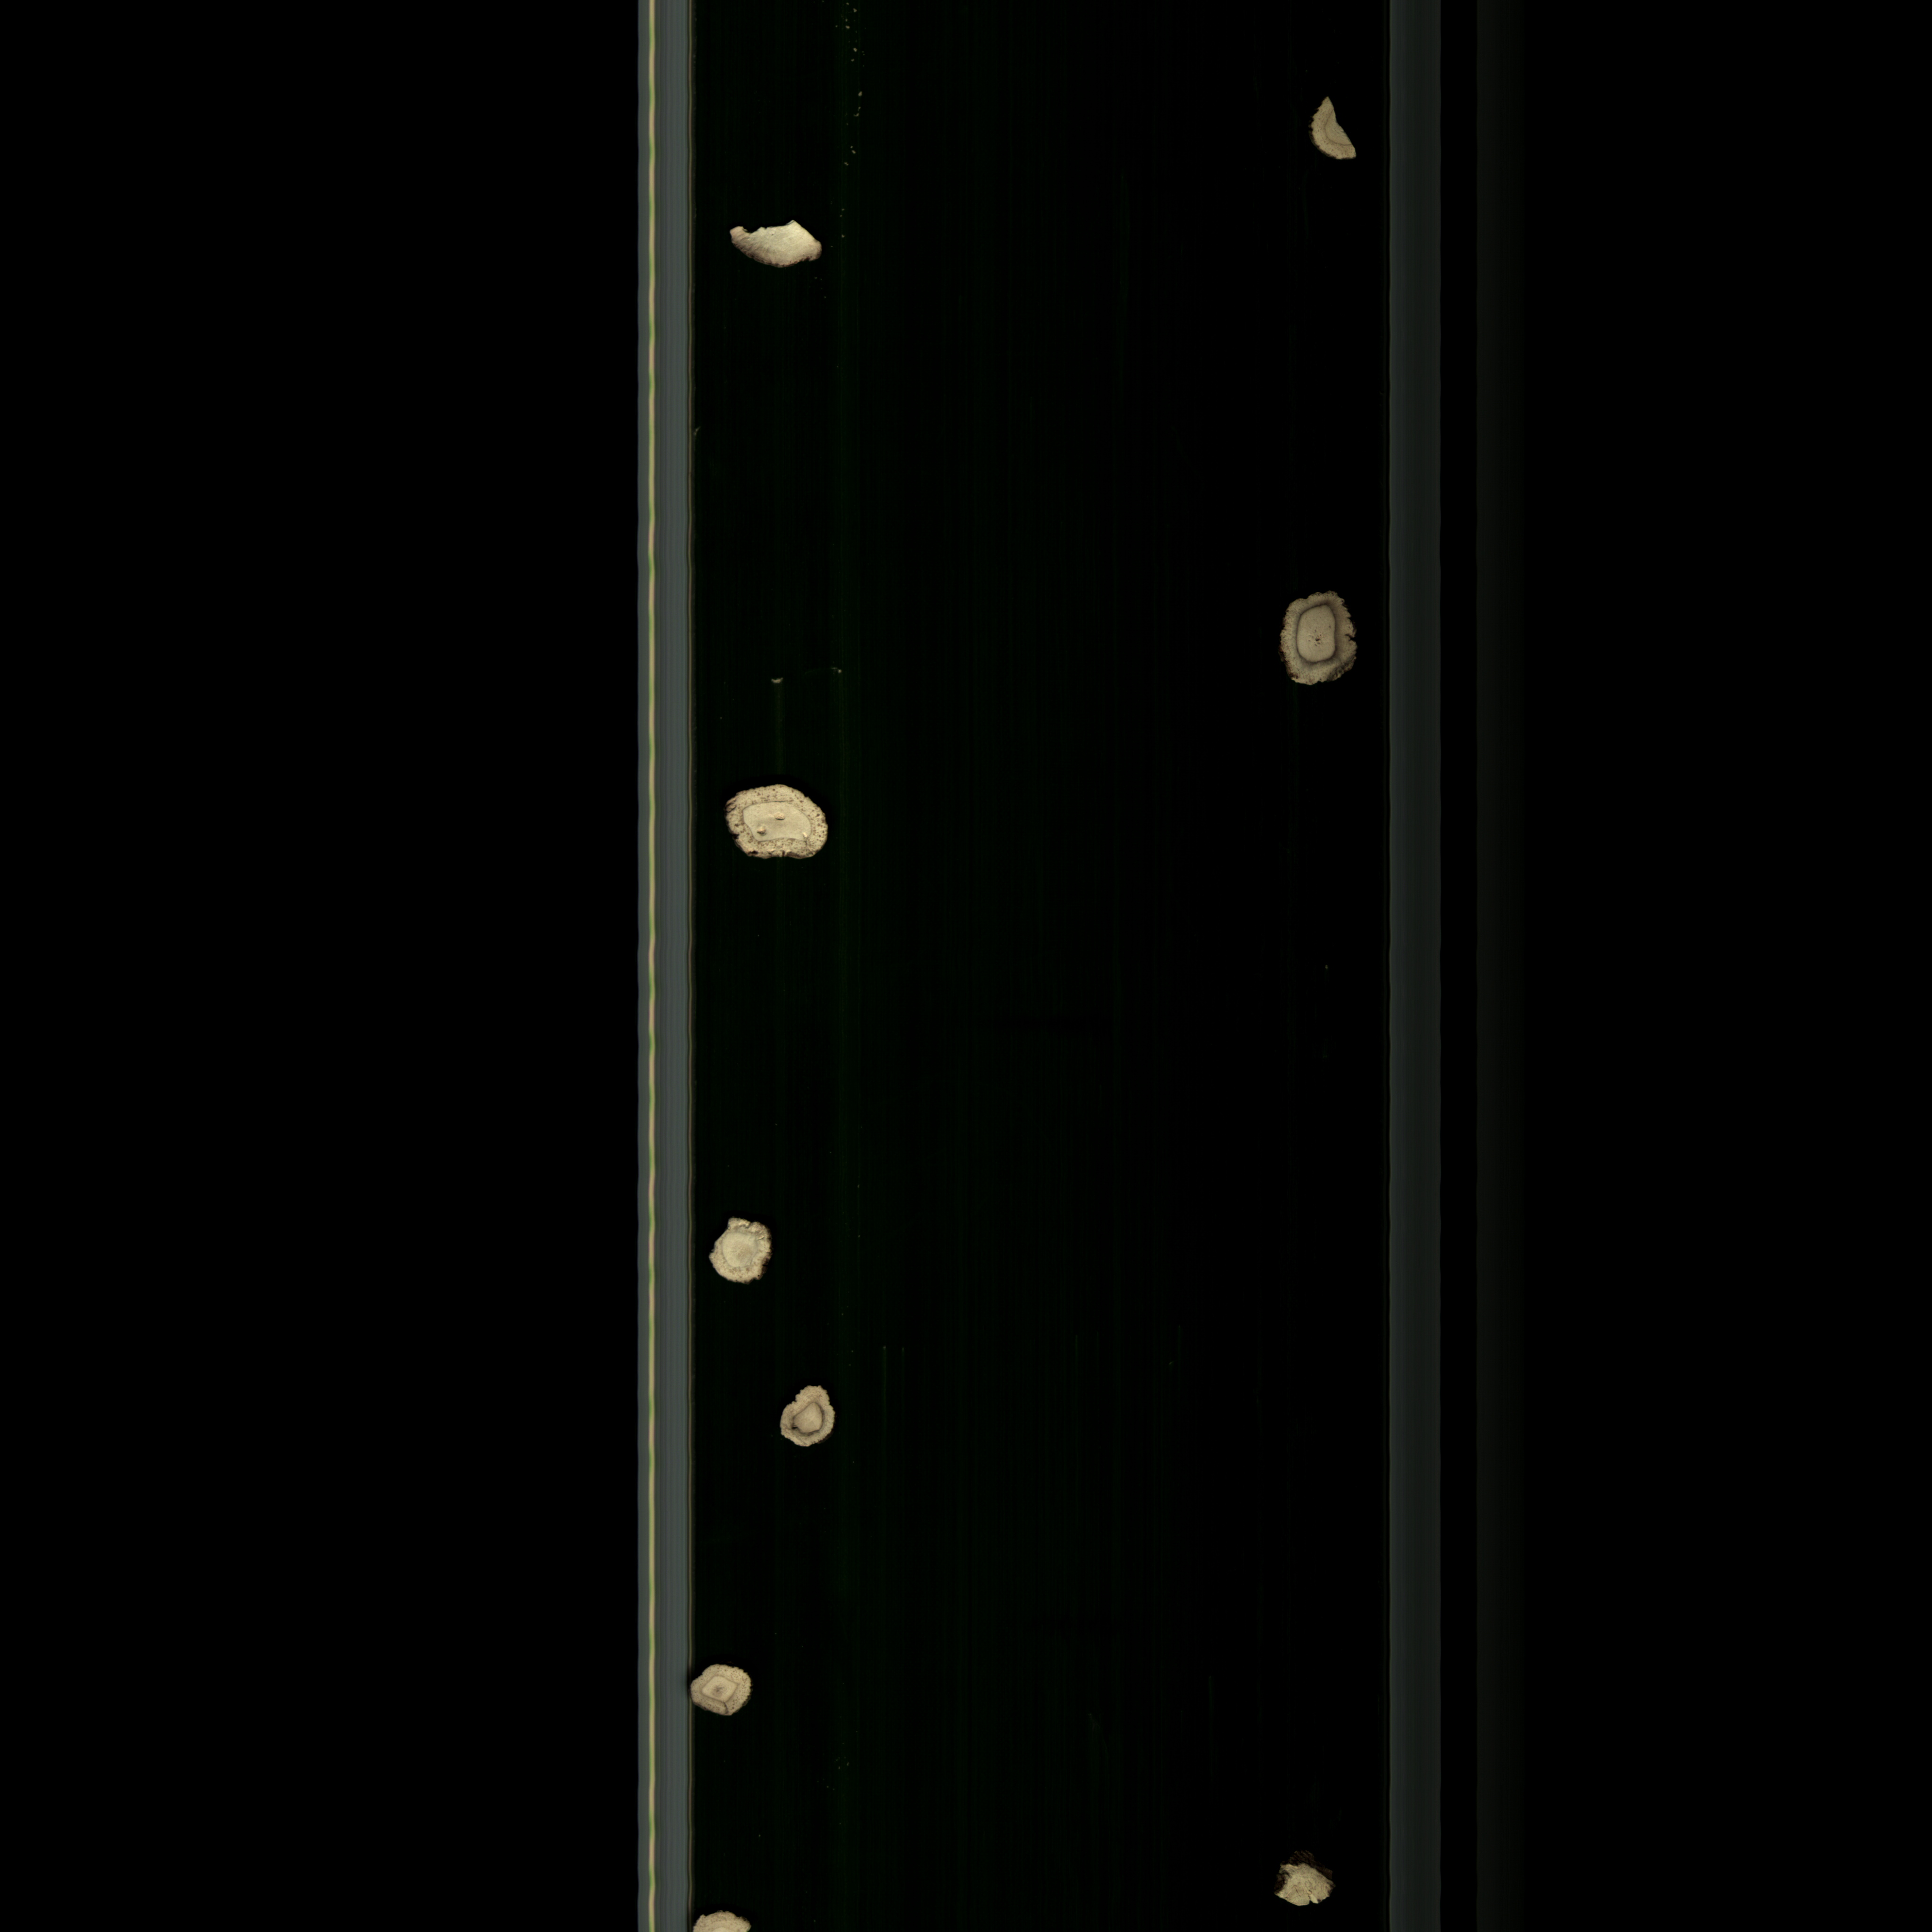debris: (706, 1208, 791, 1300), (720, 216, 842, 278)
dreg: (1267, 1851, 1348, 1918)
moldy: (708, 787, 844, 869), (1274, 584, 1369, 697), (773, 1375, 847, 1476), (1295, 92, 1362, 172), (685, 1658, 764, 1721)
